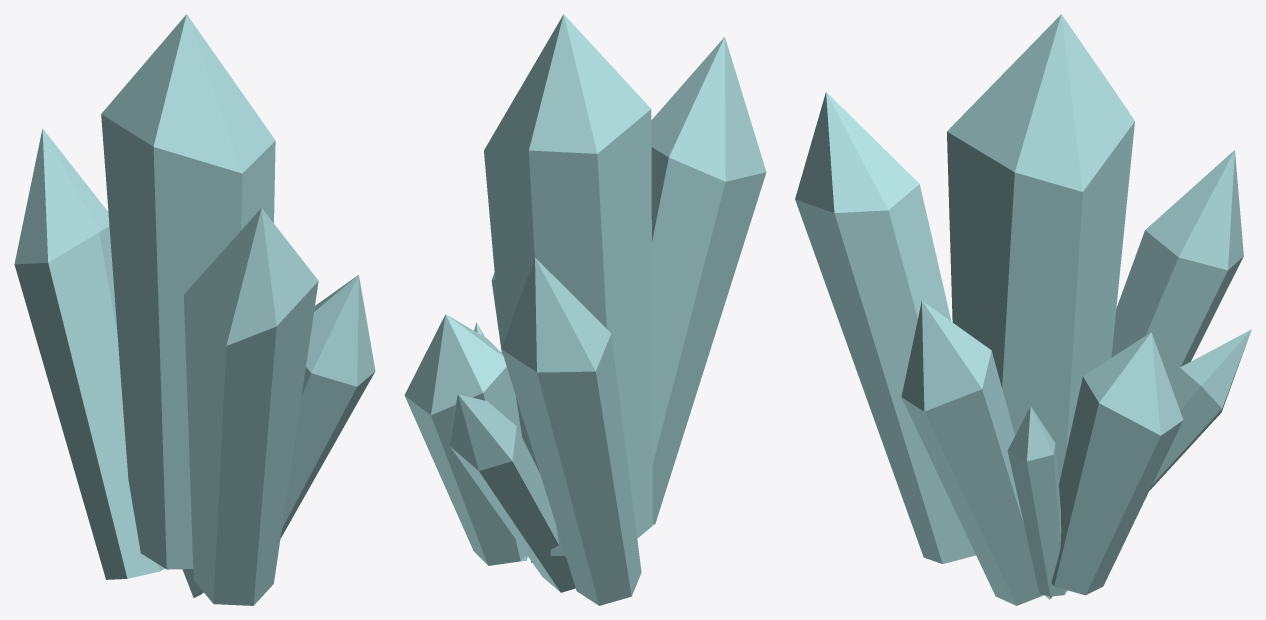
The model's file is crystal_cluster.fbx.
3 renders of one model, left to right at view 1: azimuth 30°, elevation 25°; view 2: azimuth 150°, elevation 25°; view 3: azimuth 270°, elevation 25°, orthographic.
Visible parts, largest first — view 1: Cylinder.006; view 2: Cylinder.006; view 3: Cylinder.006.
Part boxes in pixels (x1,y1,x2,y2): Cylinder.006: (14, 14, 375, 605); Cylinder.006: (404, 14, 766, 605); Cylinder.006: (795, 14, 1251, 605).
Bounding box in the file's own units: 82.03 × 204 × 145.
